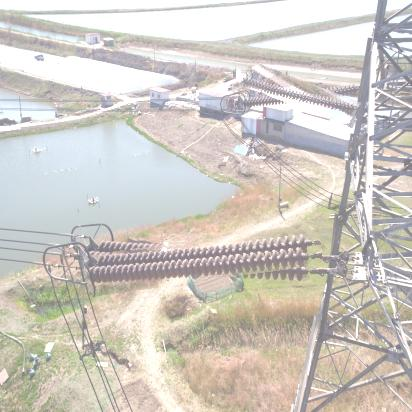insulator: (86, 232, 324, 290), (243, 72, 363, 120)
